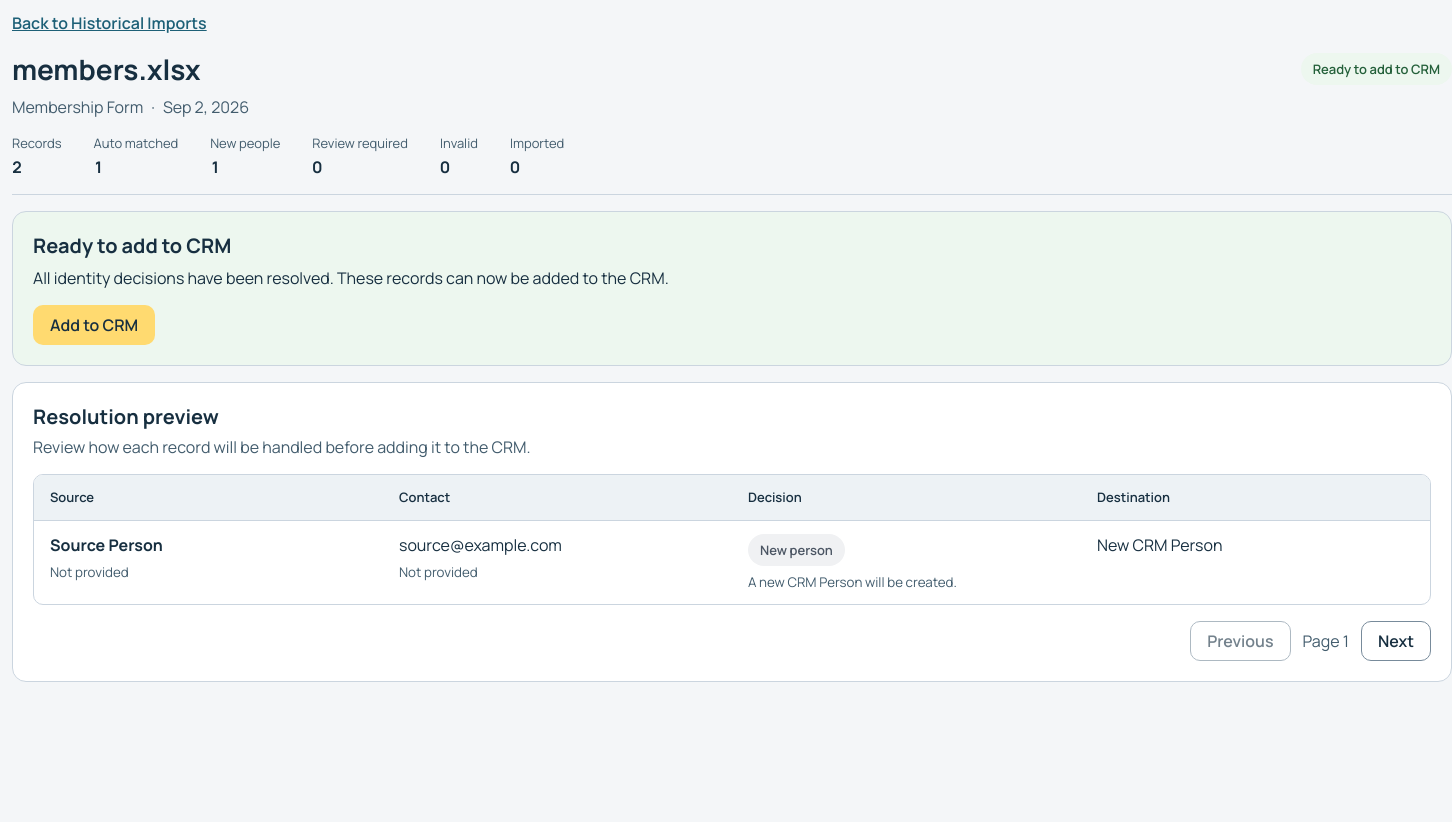
Test case: ImportBatchPageComponent › preserves preview pagination parameters and disabled boundaries
The image size is (1452, 822).
Click the button "Next" at x=1396, y=641, box [1361,621,1431,661]
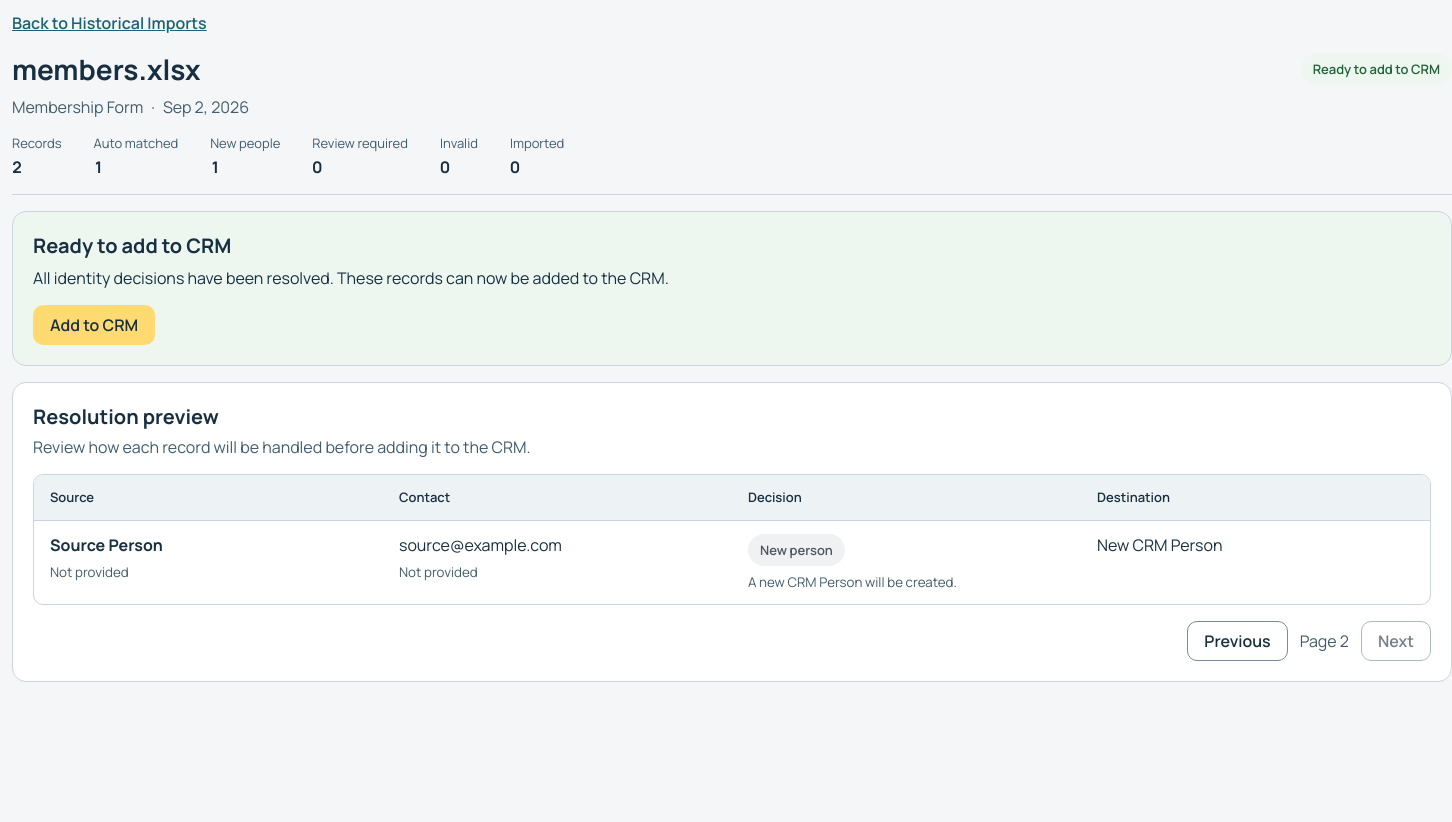
Check: the navigation bar shows "Page 2", box [1300,630,1349,652]
